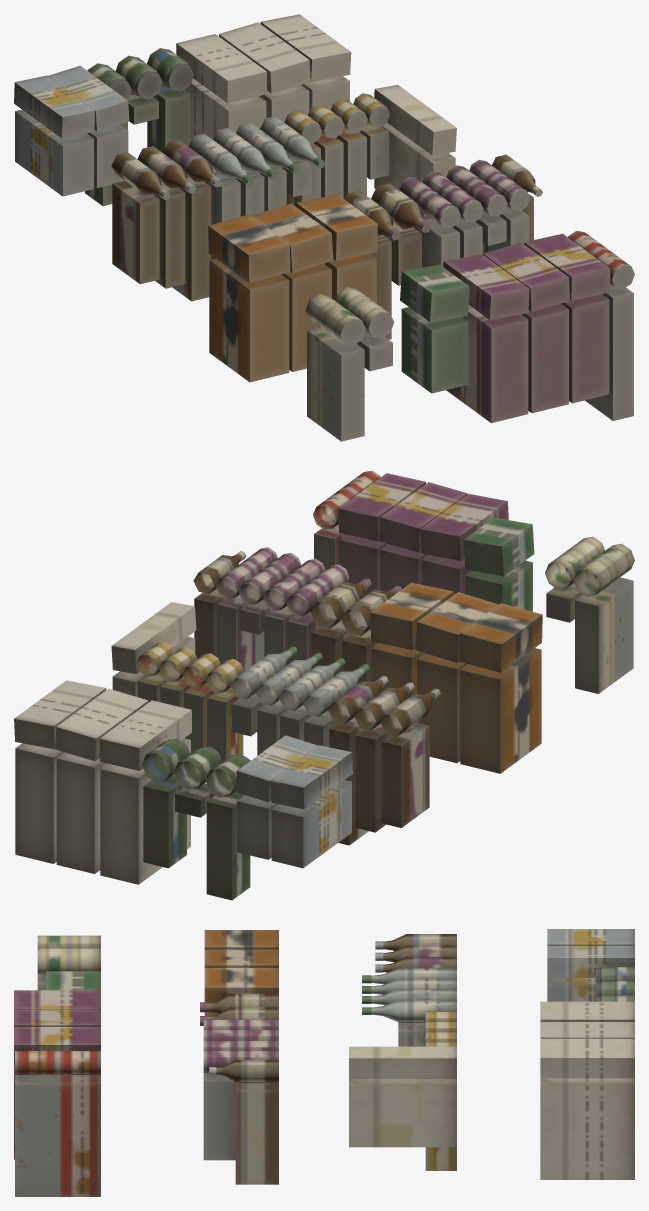
File: goods_store_3.obj
3 renders of one model, top to bottom at view 1: azimuth 30°, elevation 25°; view 2: azimuth 150°, elevation 25°; view 3: azimuth 270°, elevation 25°, orthographic. The views are drawn at different scales.
Bounding box in the file's own units: 0.866 × 0.4249 × 1.67.
1 material, 1 textured.
